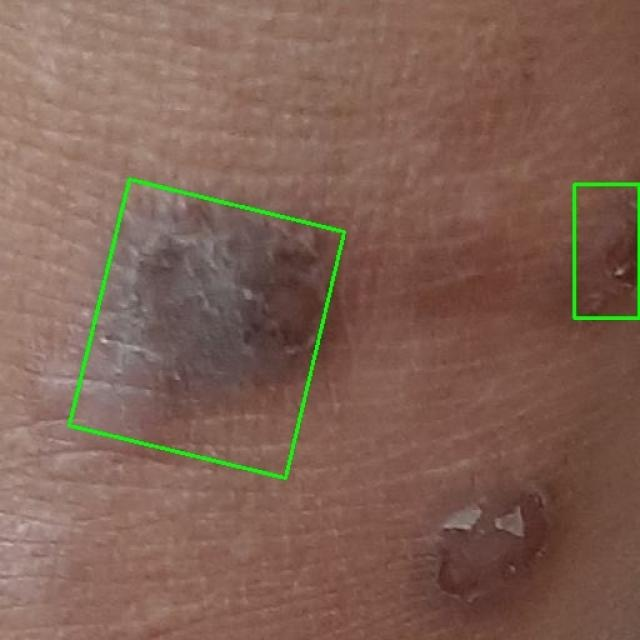Contact Dermatitis: (70, 179, 345, 478), (574, 184, 639, 318)
